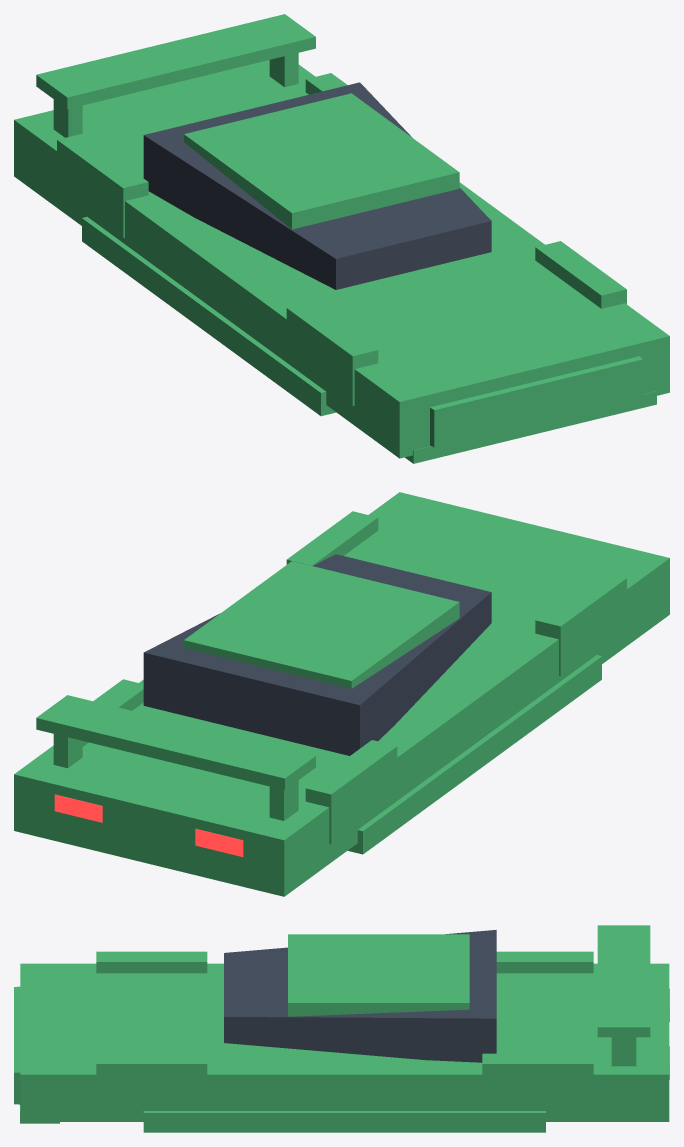
The model's file is car_viper.glb.
The picture shows the model from 3 angles, top to bottom: view 1: azimuth 30°, elevation 25°; view 2: azimuth 150°, elevation 25°; view 3: azimuth 270°, elevation 25°; orthographic projection. The views are drawn at different scales.
Visible parts, largest first — view 1: Mesh; view 2: Mesh; view 3: Mesh.
Boxes of the visible parts, x1=… form: Mesh: x1=14, y1=14, x2=669, y2=463; Mesh: x1=14, y1=492, x2=669, y2=896; Mesh: x1=14, y1=925, x2=669, y2=1132.
Size of the model in its own units: 1.77 by 0.76 by 4.25.
